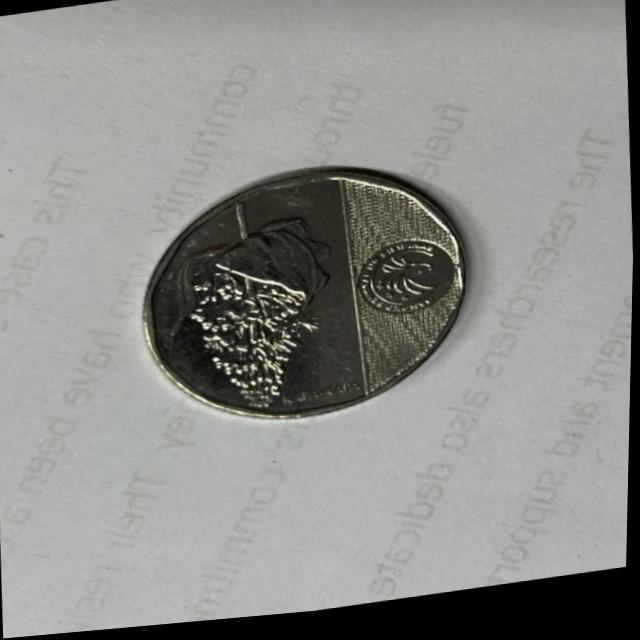10_New_Back: (163, 202, 334, 436)
